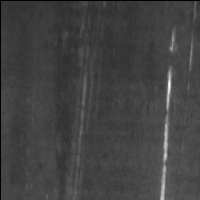scratches: (159, 30, 178, 200), (71, 71, 92, 171)
